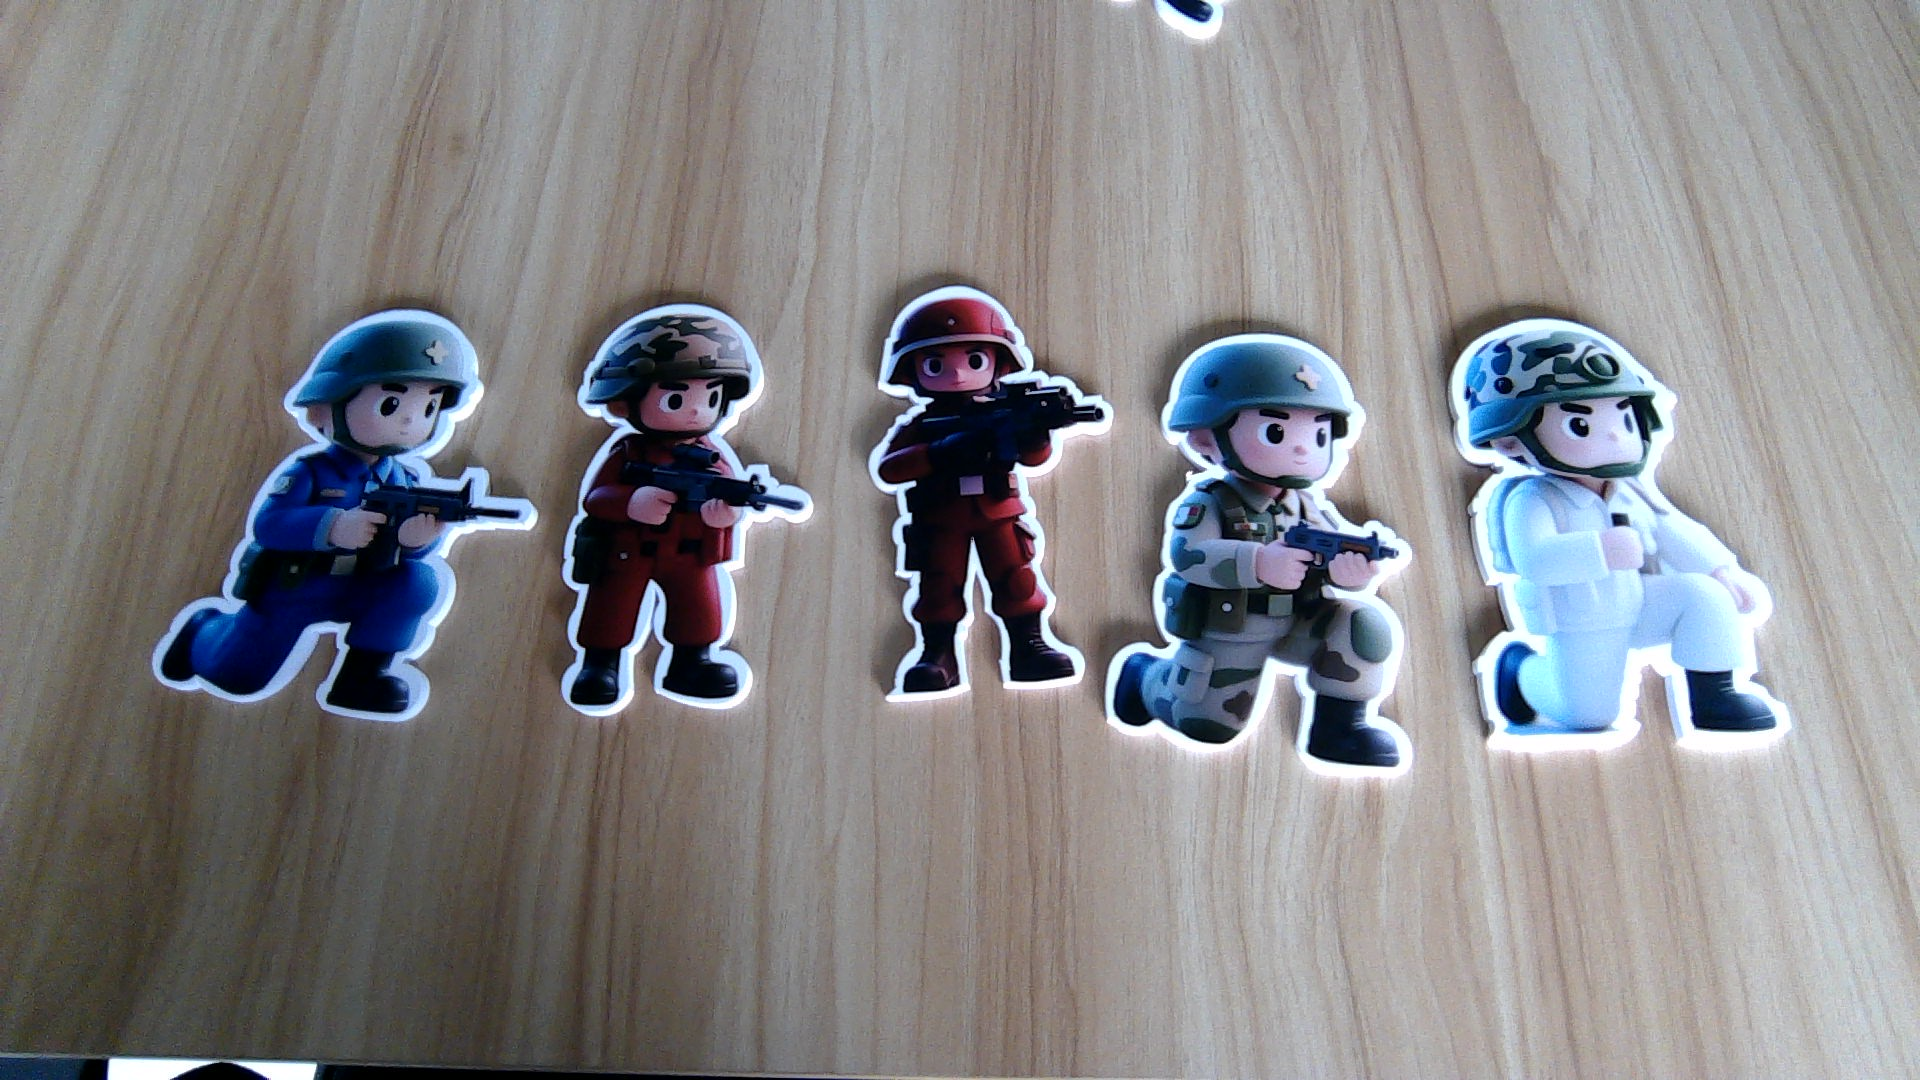人质: (1451, 483, 1796, 765)
友军: (1102, 473, 1422, 789)
敌人1: (556, 426, 796, 713), (862, 396, 1083, 702)
敌人2: (146, 450, 491, 727)
